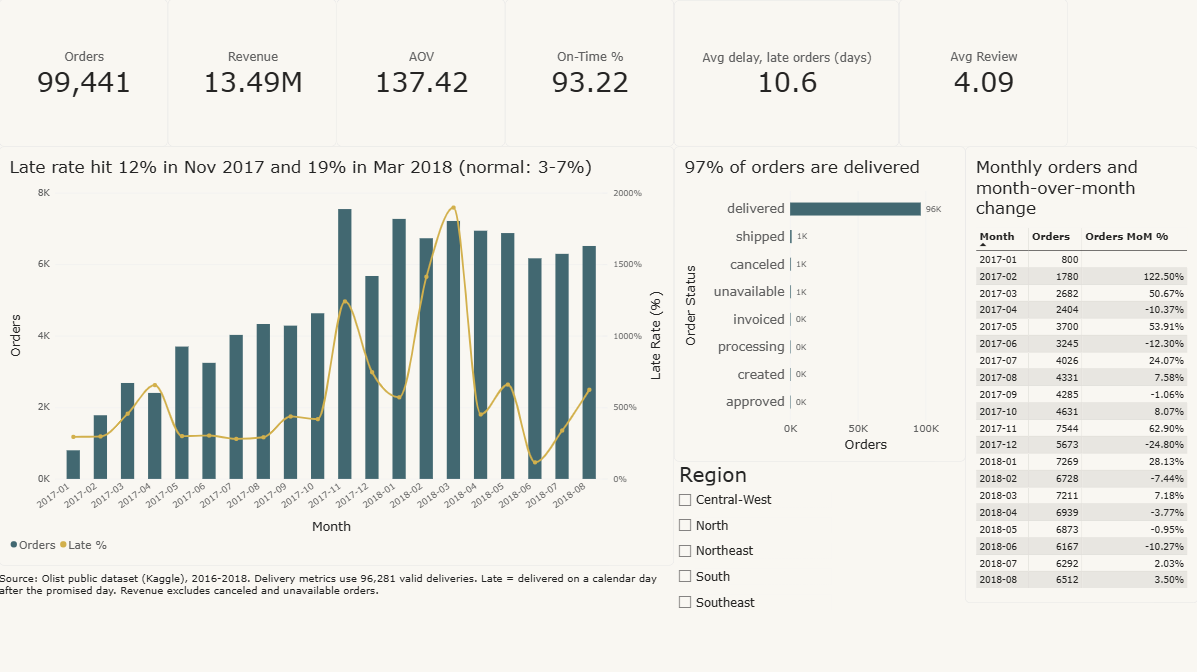

What the dashboard file says about the page in this screenshot:
{"tool":"powerbi","page":{"name":"Overview","canvas":[1920,1080],"ordinal":0},"visuals":[{"type":"cardVisual","fields":{"Data":["fact_orders.Orders (display)"]},"box":[0,0,270,236],"z":0},{"type":"cardVisual","title":"Revenue (BRL, excl. canceled)","fields":{"Data":["fact_orders.Revenue"]},"box":[270,0,270,236],"z":1000},{"type":"cardVisual","fields":{"Data":["fact_orders.AOV"]},"box":[540,0,270,236],"z":2000},{"type":"cardVisual","fields":{"Data":["fact_orders.On-Time %"]},"box":[810,0,270,236],"z":3000},{"type":"cardVisual","fields":{"Data":["fact_orders.Avg Delay (late orders only)"]},"box":[1080,2,360,234],"z":4000},{"type":"cardVisual","fields":{"Data":["fact_orders.Avg Review"]},"box":[1440,0,270,236],"z":5000},{"type":"lineClusteredColumnComboChart","title":"Late rate hit 12% in Nov 2017 and 19% in Mar 2018 (normal: 3-7%)","fields":{"Category":["dim_date.Month"],"Y":["fact_orders.Orders"],"Y2":["fact_orders.Late %"]},"box":[0,236,1080,670],"z":6000},{"type":"tableEx","title":"\tMonthly orders and month-over-month change","fields":{"Values":["dim_date.Month","fact_orders.Orders","fact_orders.Orders MoM %"]},"box":[1546,236,374,730],"z":7000},{"type":"barChart","title":"97% of orders are delivered","fields":{"Category":["fact_orders.order_status"],"Y":["fact_orders.Orders"]},"box":[1080,236,466,504],"z":8000},{"type":"slicer","fields":{"Values":["dim_state.region"]},"box":[1080,740,252,288],"z":9000},{"type":"textbox","box":[0,916,1080,164],"z":10000}]}

Visuals, with their boxes in screenshot pixels (x1, y1, x2, y2), scaled from the page's 1920x1080 canvas onto the 1197x672 screenshot:
cardVisual - fact_orders.Orders (display): l=0, t=0, r=168, b=147
"Revenue (BRL, excl. canceled)" cardVisual: l=168, t=0, r=337, b=147
cardVisual - fact_orders.AOV: l=337, t=0, r=505, b=147
cardVisual - fact_orders.On-Time %: l=505, t=0, r=673, b=147
cardVisual - fact_orders.Avg Delay (late orders only): l=673, t=1, r=898, b=147
cardVisual - fact_orders.Avg Review: l=898, t=0, r=1066, b=147
"Late rate hit 12% in Nov 2017 and 19% in Mar 2018 (normal: 3-7%)" lineClusteredColumnComboChart: l=0, t=147, r=673, b=564
"	Monthly orders and month-over-month change" tableEx: l=964, t=147, r=1196, b=601
"97% of orders are delivered" barChart: l=673, t=147, r=964, b=460
slicer - dim_state.region: l=673, t=460, r=830, b=640
textbox: l=0, t=570, r=673, b=671
